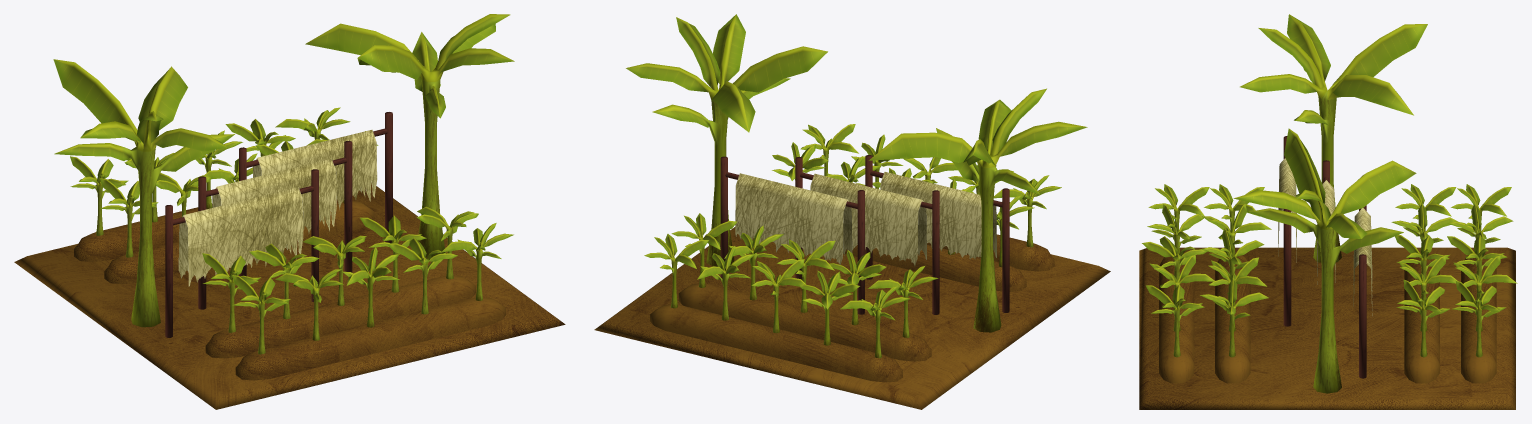
The model's file is Fiber Plantation 2.fbx.
3 views of the same model, side by side, from view 1: azimuth 30°, elevation 25°; view 2: azimuth 150°, elevation 25°; view 3: azimuth 270°, elevation 25° (orthographic). The views are drawn at different scales.
Visible parts, largest first — view 1: Soil.001, Soil Mounds.001, Banana Tree.009, Drying Fiber.005, Banana Tree.008, Banana Tree.010, Drying Fiber.004, Banana Tree.011, Drying Fiber.003, Banana Tree.013, Banana Tree.012; view 2: Soil.001, Soil Mounds.001, Banana Tree.008, Banana Tree.009, Drying Fiber.003, Drying Fiber.004, Drying Fiber.005, Banana Tree.013, Banana Tree.012, Banana Tree.010, Banana Tree.011; view 3: Soil.001, Soil Mounds.001, Banana Tree.008, Banana Tree.009, Banana Tree.010, Banana Tree.013, Banana Tree.012, Banana Tree.011, Drying Fiber.003, Drying Fiber.005, Drying Fiber.004.
Part boxes in pixels (x1=…): Soil.001: x1=14, y1=182, x2=565, y2=409; Soil Mounds.001: x1=74, y1=199, x2=505, y2=380; Banana Tree.009: x1=53, y1=59, x2=234, y2=327; Drying Fiber.005: x1=165, y1=169, x2=318, y2=337; Banana Tree.008: x1=305, y1=14, x2=514, y2=257; Banana Tree.010: x1=232, y1=223, x2=513, y2=354; Drying Fiber.004: x1=198, y1=140, x2=352, y2=309; Banana Tree.011: x1=202, y1=206, x2=478, y2=332; Drying Fiber.003: x1=239, y1=112, x2=392, y2=276; Banana Tree.013: x1=70, y1=107, x2=350, y2=235; Banana Tree.012: x1=99, y1=131, x2=378, y2=257; Soil.001: x1=594, y1=227, x2=1110, y2=409; Soil Mounds.001: x1=650, y1=234, x2=1054, y2=382; Banana Tree.008: x1=626, y1=14, x2=827, y2=266; Banana Tree.009: x1=869, y1=88, x2=1087, y2=332; Drying Fiber.003: x1=720, y1=156, x2=864, y2=314; Drying Fiber.004: x1=795, y1=157, x2=939, y2=314; Drying Fiber.005: x1=865, y1=155, x2=1009, y2=312; Banana Tree.013: x1=644, y1=234, x2=910, y2=358; Banana Tree.012: x1=671, y1=213, x2=938, y2=337; Banana Tree.010: x1=800, y1=124, x2=1061, y2=247; Banana Tree.011: x1=772, y1=142, x2=1034, y2=267; Soil.001: x1=1139, y1=247, x2=1515, y2=409; Soil Mounds.001: x1=1159, y1=253, x2=1496, y2=383; Banana Tree.008: x1=1233, y1=128, x2=1416, y2=393; Banana Tree.009: x1=1240, y1=14, x2=1427, y2=262; Banana Tree.010: x1=1142, y1=184, x2=1214, y2=357; Banana Tree.013: x1=1447, y1=184, x2=1517, y2=357; Banana Tree.012: x1=1391, y1=184, x2=1458, y2=357; Banana Tree.011: x1=1200, y1=184, x2=1271, y2=357; Drying Fiber.003: x1=1353, y1=205, x2=1372, y2=378; Drying Fiber.005: x1=1278, y1=136, x2=1296, y2=326; Drying Fiber.004: x1=1317, y1=160, x2=1335, y2=284.
Size of the model in its own units: 260 by 133 by 201.
